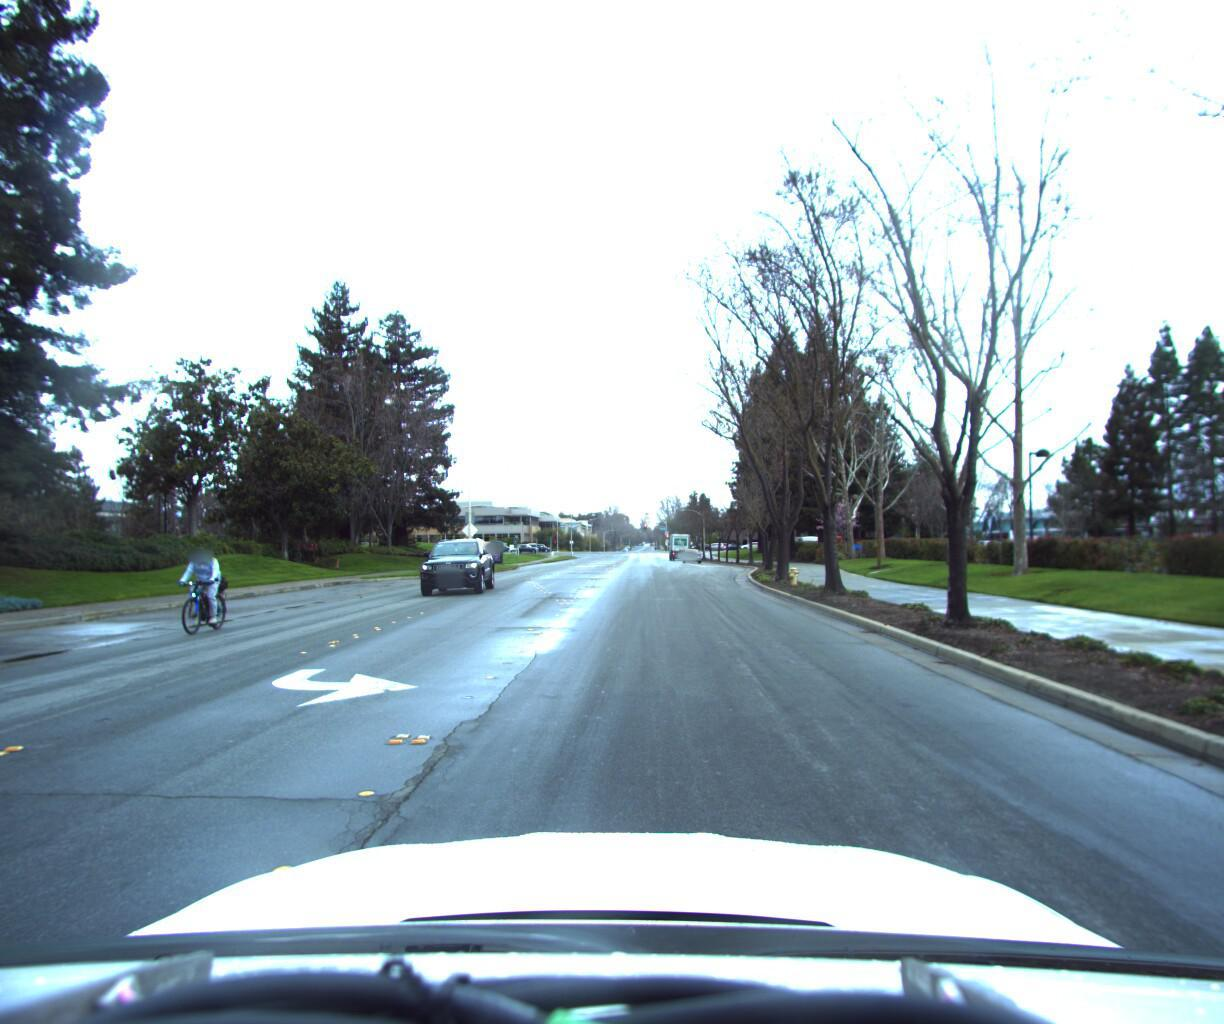bicycle: (152, 544, 240, 639)
car: (416, 537, 499, 598), (683, 549, 701, 565)
